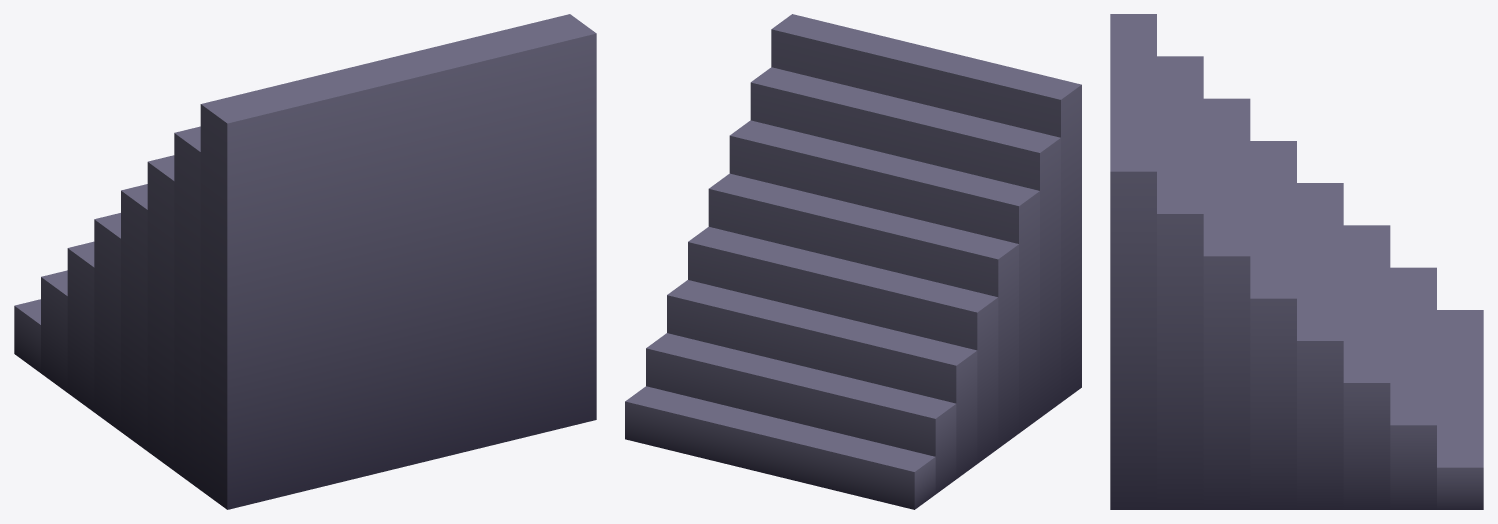
Rendered from dun_stairs.glb.
The picture shows the model from 3 angles, left to right: view 1: azimuth 30°, elevation 25°; view 2: azimuth 150°, elevation 25°; view 3: azimuth 270°, elevation 25°; orthographic projection. The views are drawn at different scales.
Visible parts, largest first — view 1: dun_stairs; view 2: dun_stairs; view 3: dun_stairs.
Part boxes in pixels (<box>): dun_stairs: <box>14,14,596,509</box>; dun_stairs: <box>625,14,1081,509</box>; dun_stairs: <box>1110,14,1483,509</box>.
Size of the model in its own units: 4 by 4 by 4.
